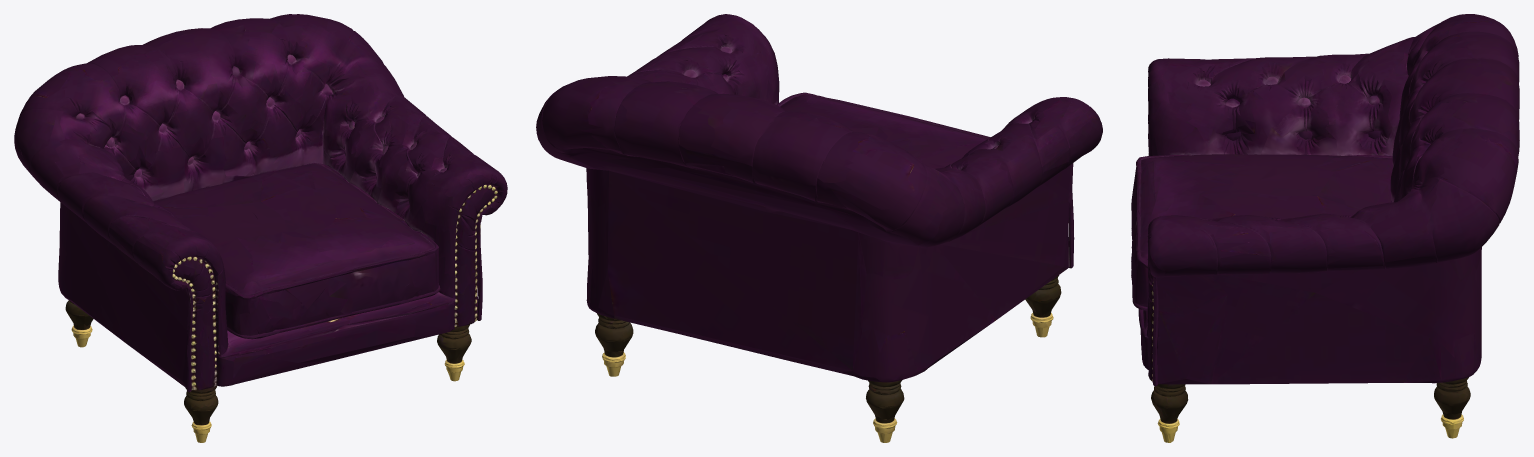
File: loungeArmchair.glb
3 renders of one model, left to right at view 1: azimuth 30°, elevation 25°; view 2: azimuth 150°, elevation 25°; view 3: azimuth 270°, elevation 25°, orthographic. The views are drawn at different scales.
Bounding box in the file's own units: 1.9 × 1.38 × 1.61.
Materials: 1 (1 with a texture image).
